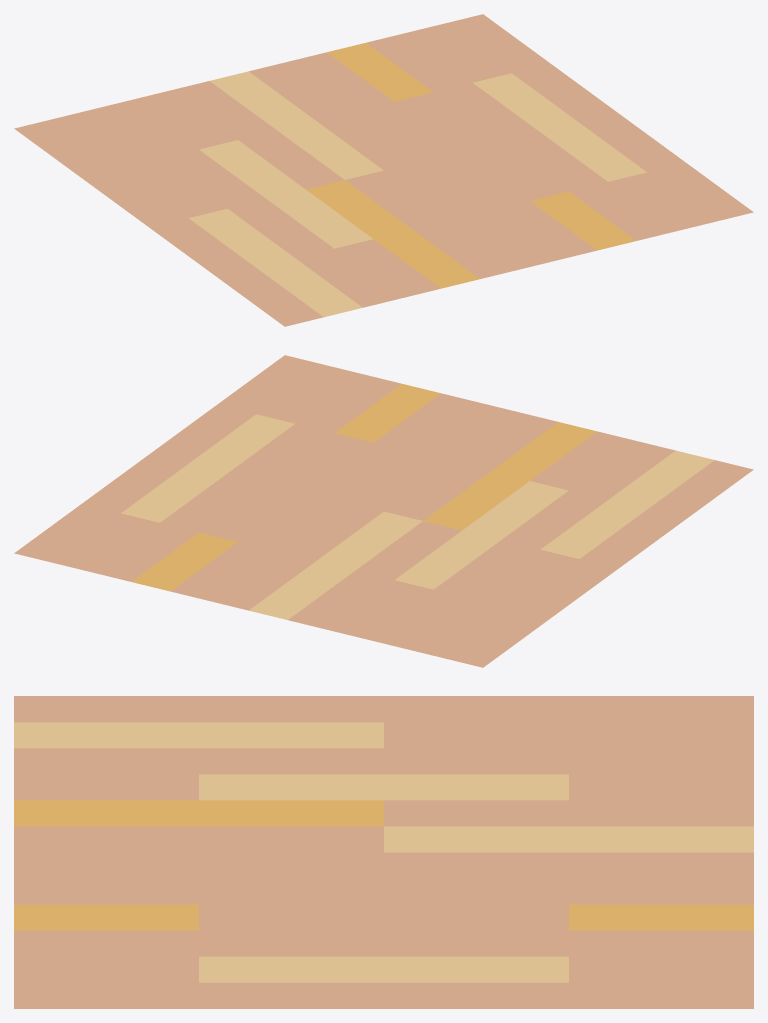
Rendered from MXC_Floor_06.fbx.
The picture shows the model from 3 angles, top to bottom: view 1: azimuth 30°, elevation 25°; view 2: azimuth 150°, elevation 25°; view 3: azimuth 270°, elevation 25°; orthographic projection. The views are drawn at different scales.
Parts seen in each view (by area): view 1: MXC_Floor_06; view 2: MXC_Floor_06; view 3: MXC_Floor_06.
Part boxes in pixels (x1=…): MXC_Floor_06: x1=14, y1=14, x2=753, y2=326; MXC_Floor_06: x1=14, y1=355, x2=753, y2=667; MXC_Floor_06: x1=14, y1=696, x2=753, y2=1008.
Bounding box in the file's own units: 400 × 0 × 400.
